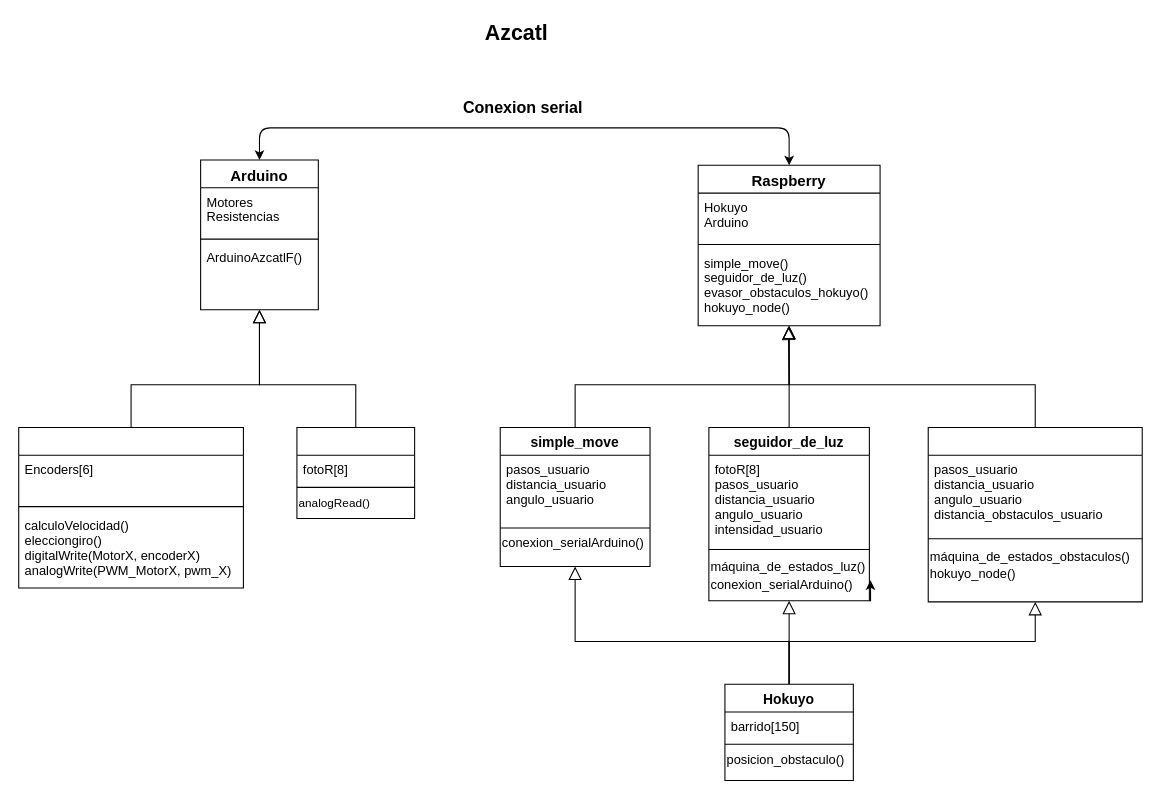
The diagram is 1161 pixels wide and 799 high, and some of its shapes have lost their labels. Here are the shapes that lost their labels. From the top down, the box of each, then its label:
(296, 426, 415, 518): Fotoresistencias
(18, 426, 243, 588): Motores
(927, 426, 1142, 602): evasor_obstaculos_hokuyo
